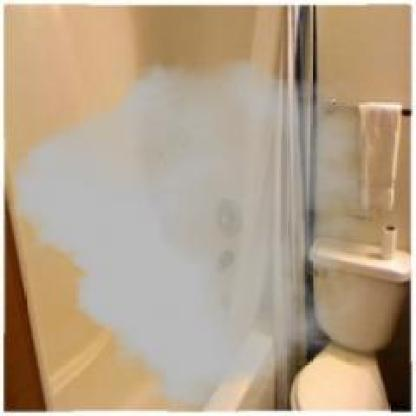Smoke: (14, 57, 369, 411)
